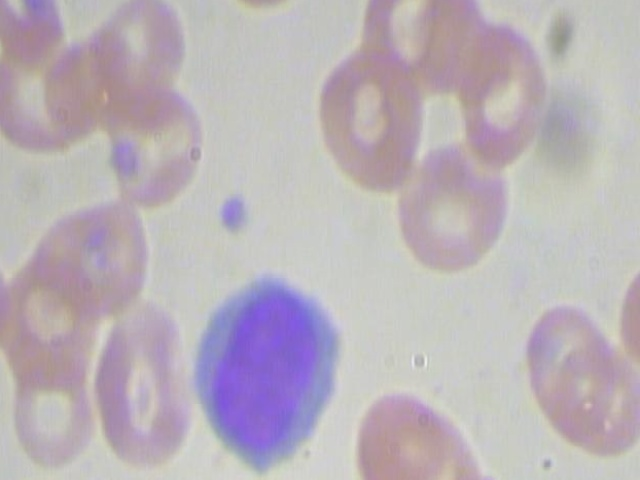Platelets: (211, 185, 258, 238)
RBC: (89, 300, 203, 469), (312, 44, 433, 196), (394, 130, 515, 272), (14, 194, 152, 317), (98, 76, 206, 213), (519, 291, 617, 440), (455, 19, 552, 166), (352, 381, 492, 480), (5, 332, 95, 470), (213, 0, 329, 16)
WBC: (178, 266, 355, 479)
